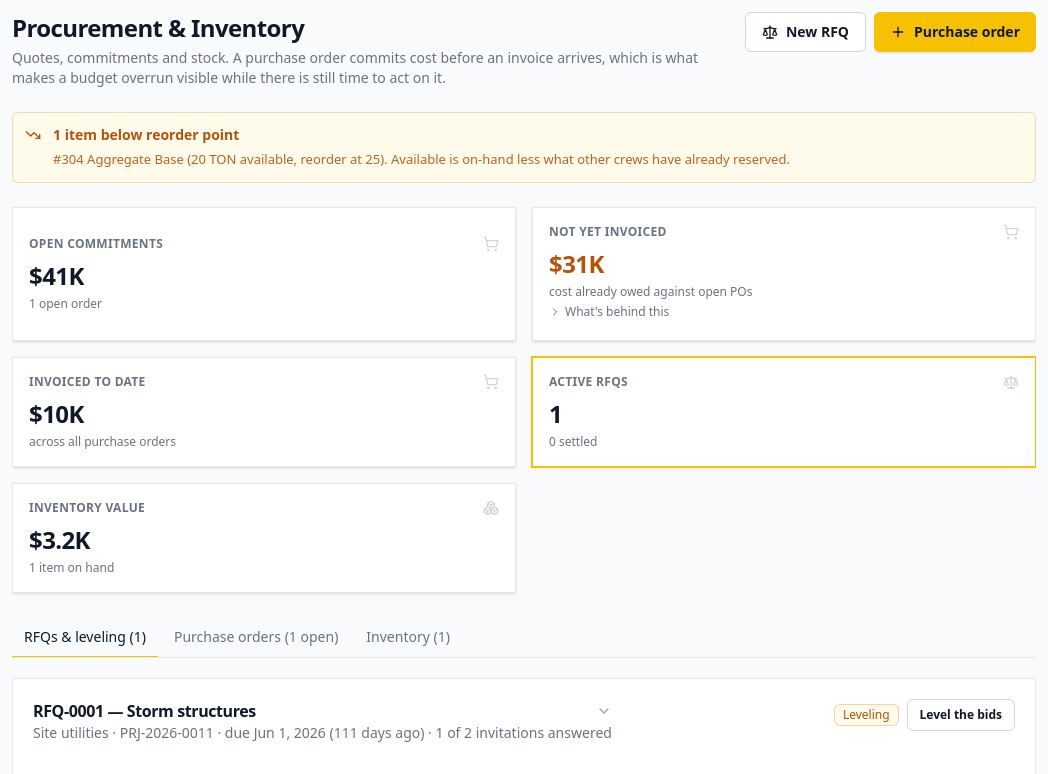
Scenario: the boxes across the top › says what "not yet invoiced" is the difference between
Click the button with aria-label "What is behind Not yet invoiced" at coordinates (608, 232), box [549,224,1019,320]
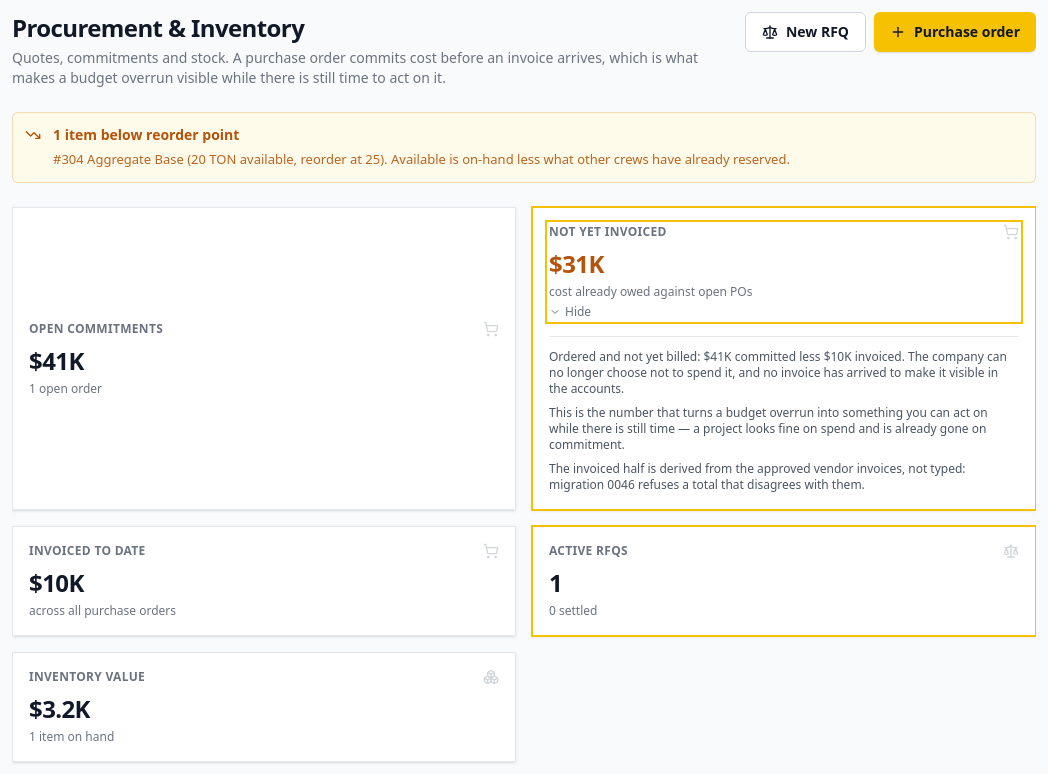
Expected: the text "no longer choose not to spend" is shown, [549,348,1007,397]
Expected: the text "looks fine on spend and is already gone on" is shown, [549,404,988,453]
